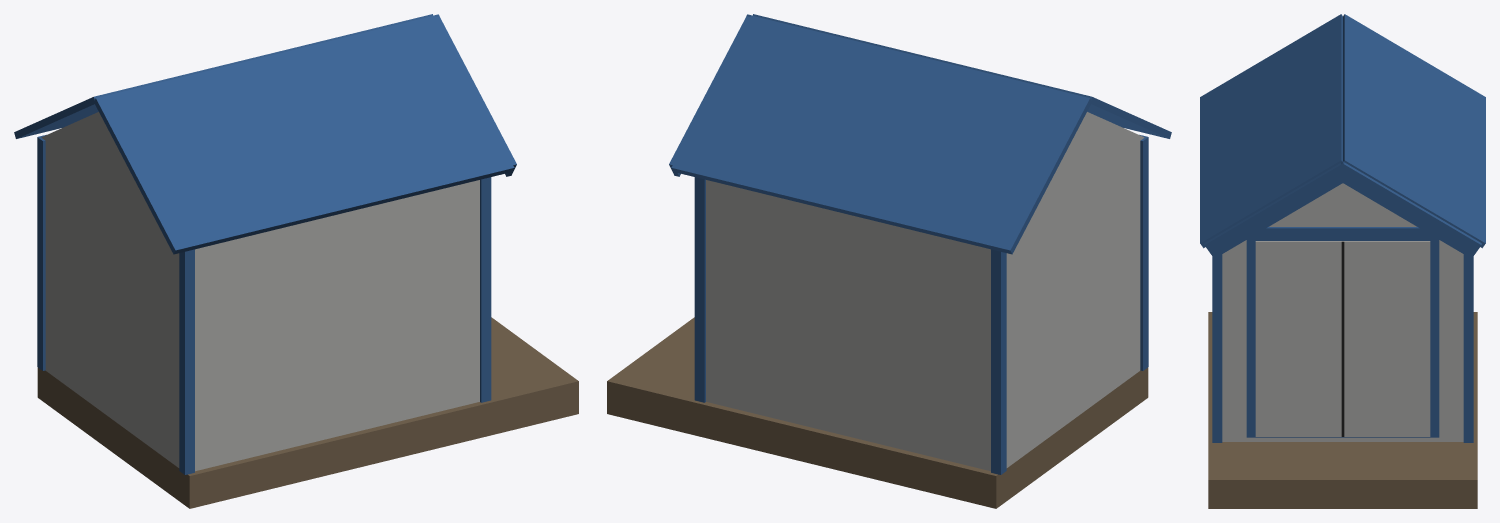
The model's file is SM_Prop_coast_beachhut_4_LOD1.glb.
3 views of the same model, side by side, from view 1: azimuth 30°, elevation 25°; view 2: azimuth 150°, elevation 25°; view 3: azimuth 270°, elevation 25° (orthographic). The views are drawn at different scales.
Parts seen in each view (by area): view 1: SM_Prop_coast_beachhut_4_LOD1; view 2: SM_Prop_coast_beachhut_4_LOD1; view 3: SM_Prop_coast_beachhut_4_LOD1.
Boxes of the visible parts, x1,y1,x2,y2 form: SM_Prop_coast_beachhut_4_LOD1: [14, 14, 578, 508]; SM_Prop_coast_beachhut_4_LOD1: [607, 14, 1171, 508]; SM_Prop_coast_beachhut_4_LOD1: [1200, 14, 1485, 508].
Size of the model in its own units: 3.25 by 2.74 by 2.23.
